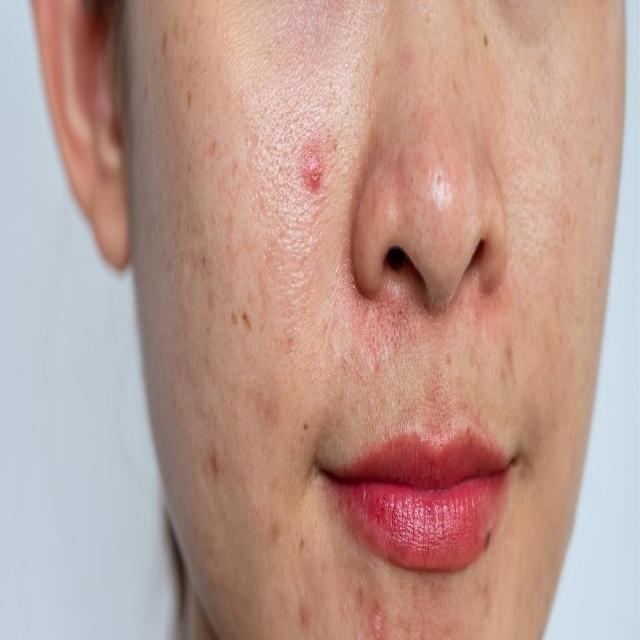Acne: (288, 117, 332, 208), (189, 434, 240, 506), (367, 587, 390, 639)
Englarged-Pores: (183, 69, 283, 233)
Oily-Skin: (118, 3, 575, 600)
